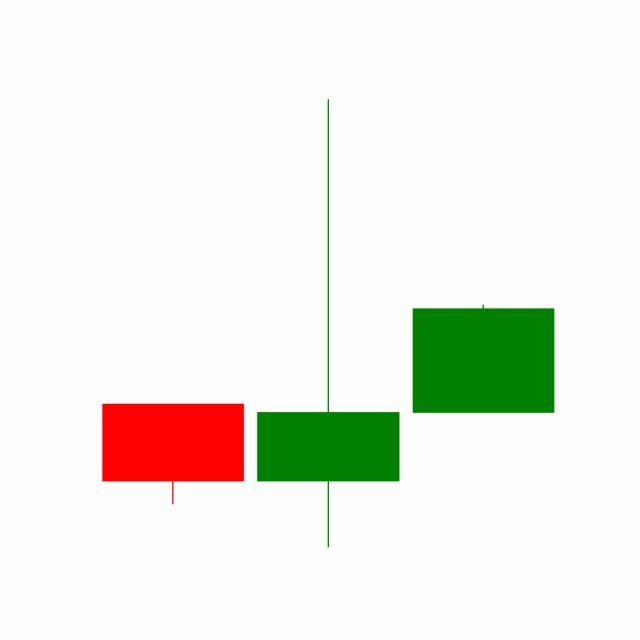Marubozu: (406, 304, 562, 416)
